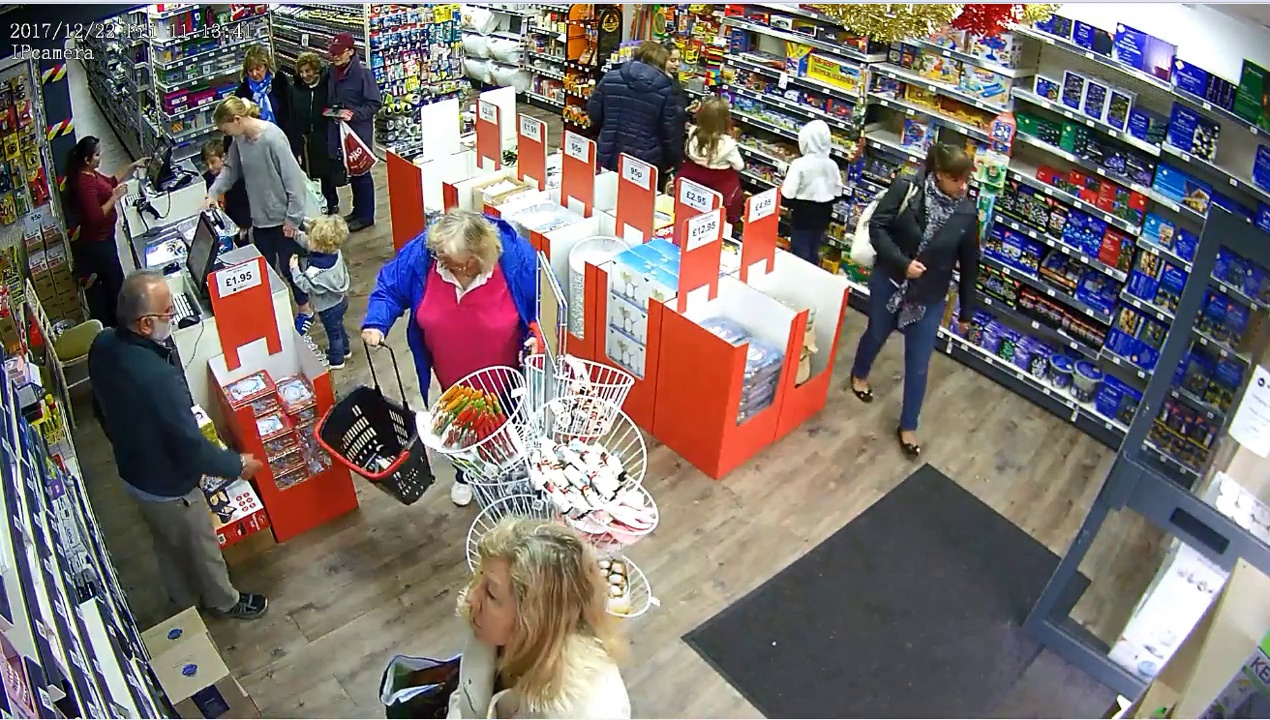face: (462, 562, 527, 659), (944, 165, 972, 198), (298, 61, 314, 89), (246, 61, 263, 83)
